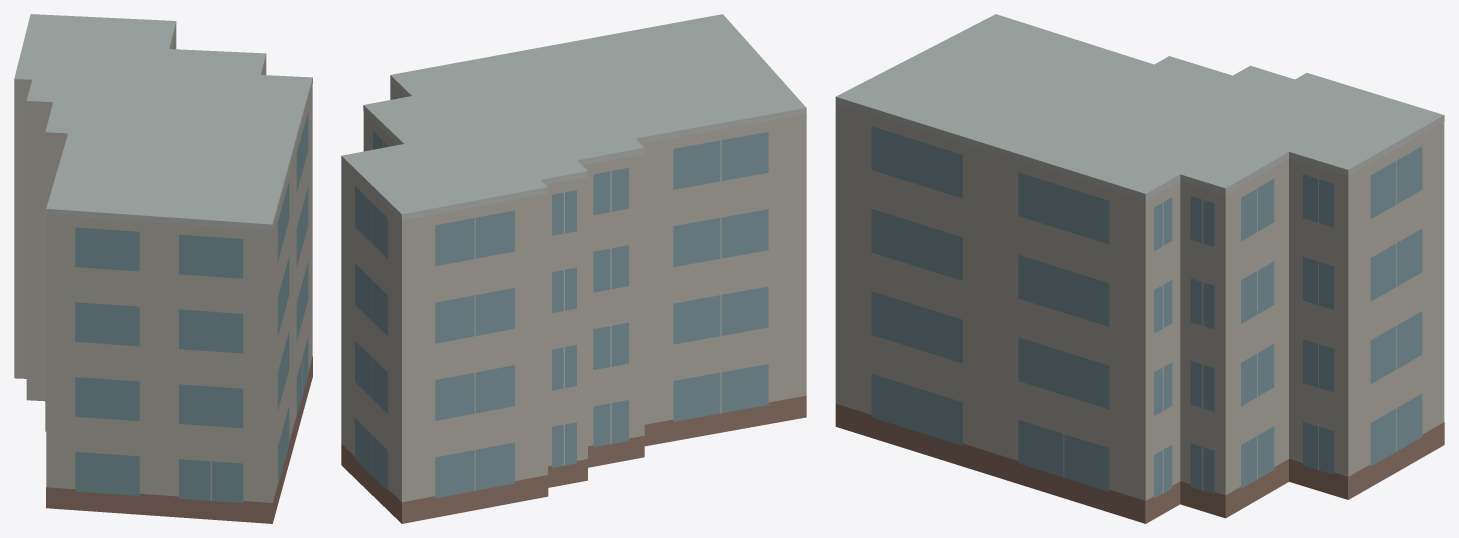
File: survey-upis-32819869.glb
The picture shows the model from 3 angles, left to right: view 1: azimuth 30°, elevation 25°; view 2: azimuth 150°, elevation 25°; view 3: azimuth 270°, elevation 25°; orthographic projection. The views are drawn at different scales.
Visible parts, largest first — view 1: survey-upis-32819869.tmp; view 2: survey-upis-32819869.tmp; view 3: survey-upis-32819869.tmp.
Part boxes in pixels (left/top/right/bottom): survey-upis-32819869.tmp: left=14, top=14, right=312, bottom=523; survey-upis-32819869.tmp: left=341, top=14, right=806, bottom=523; survey-upis-32819869.tmp: left=835, top=14, right=1444, bottom=523.
Size of the model in its own units: 14.28 by 12.2 by 20.41.
